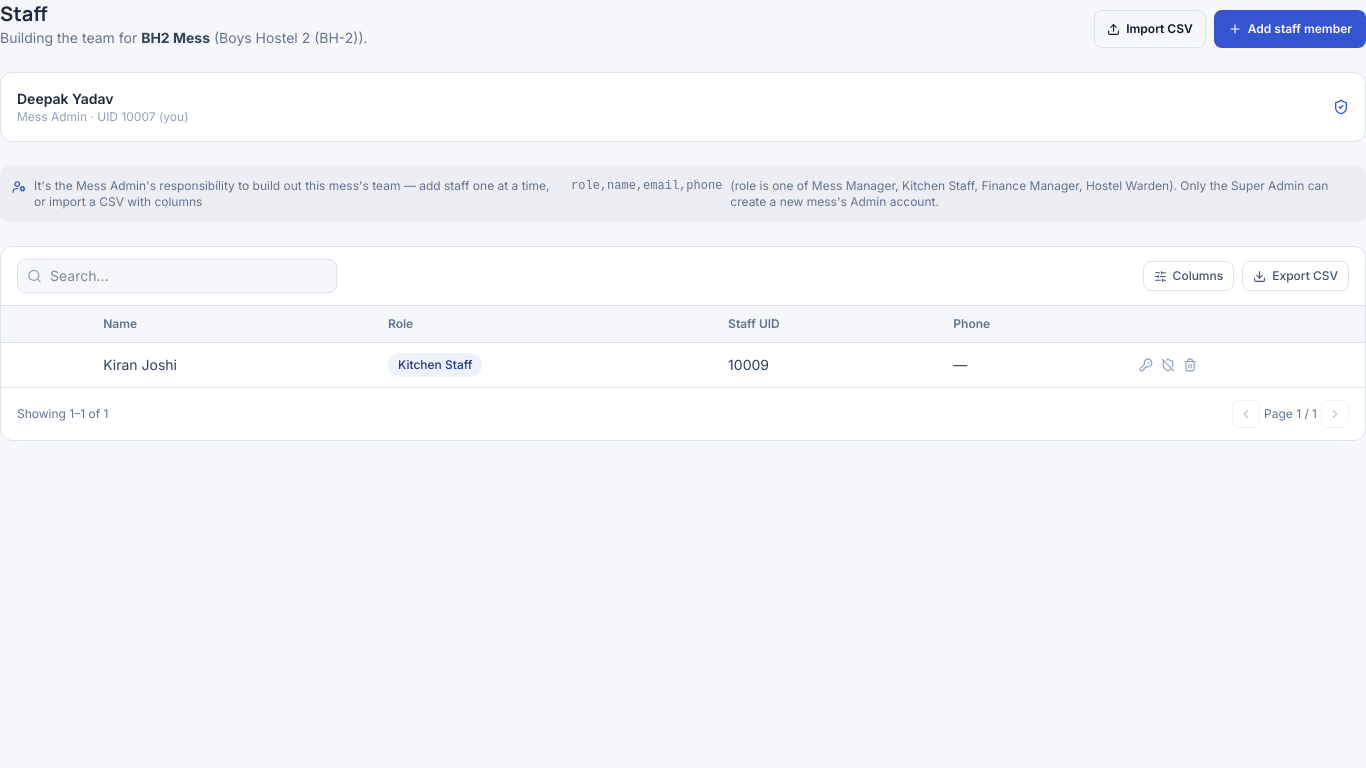
Test: Staff — resetting a lost authenticator › shows the server's reason if it is refused
Expected: the text "Kiran Joshi" is shown, [87,342,372,387]
Click the button named "reset two-factor for kiran joshi" at (1168, 365), box [1161,358,1175,372]
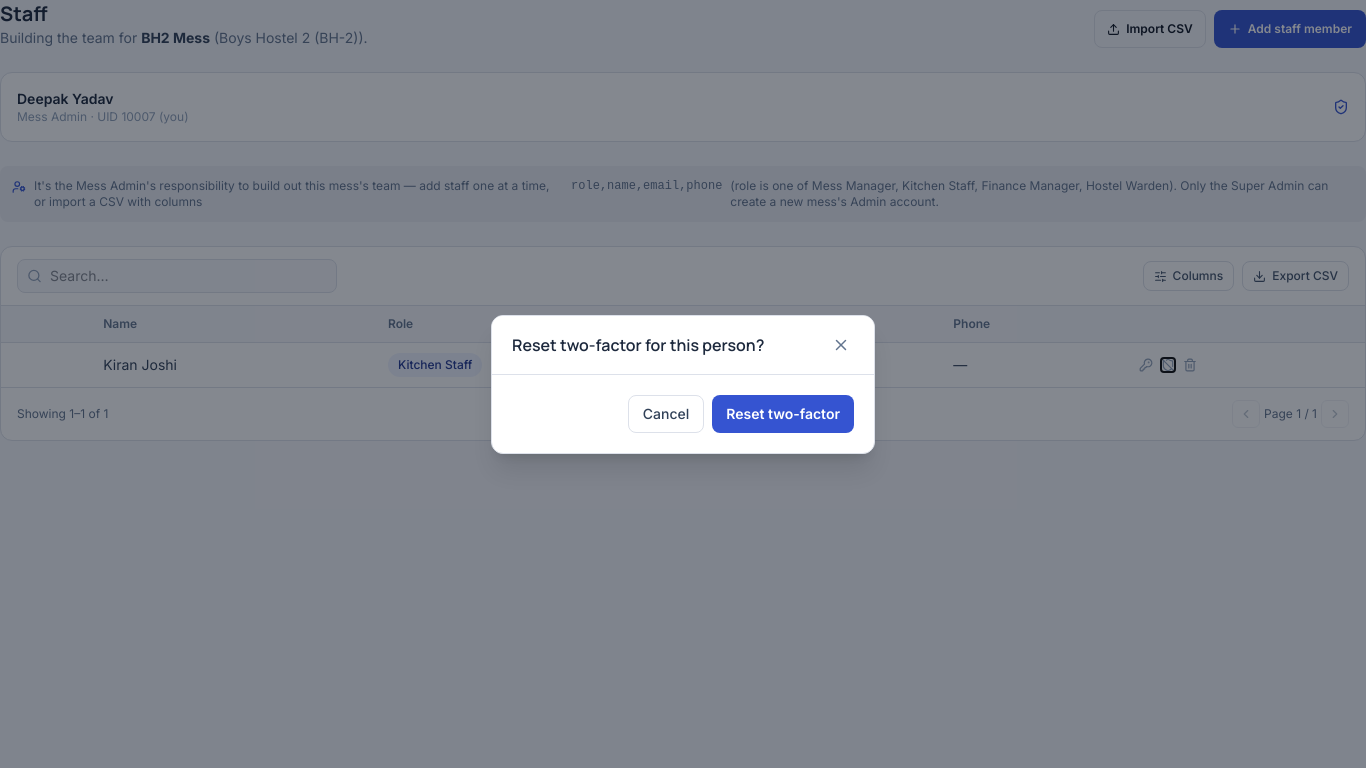
Click the button "Reset two-factor" at (783, 414), box [712,394,854,432]
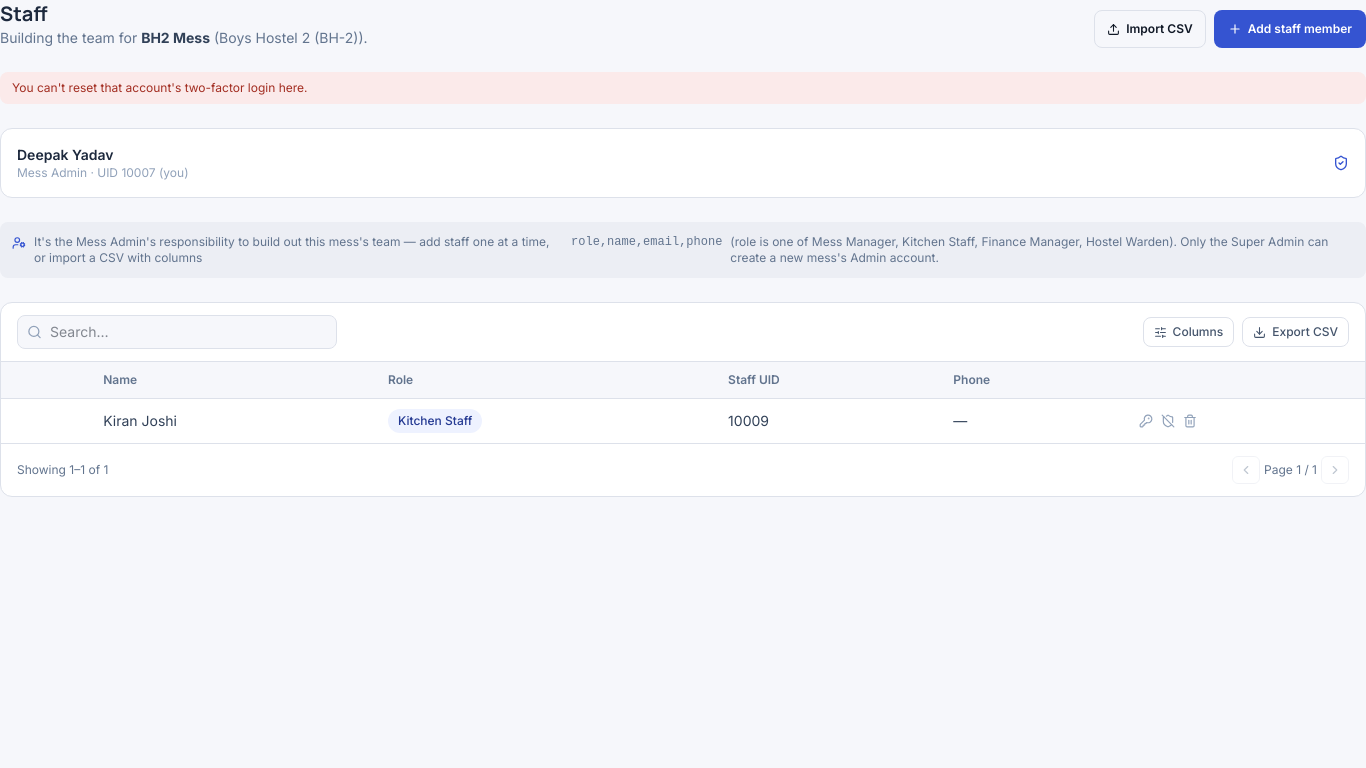
Result: the message shows "can't reset that account" at [12,80,308,95]
